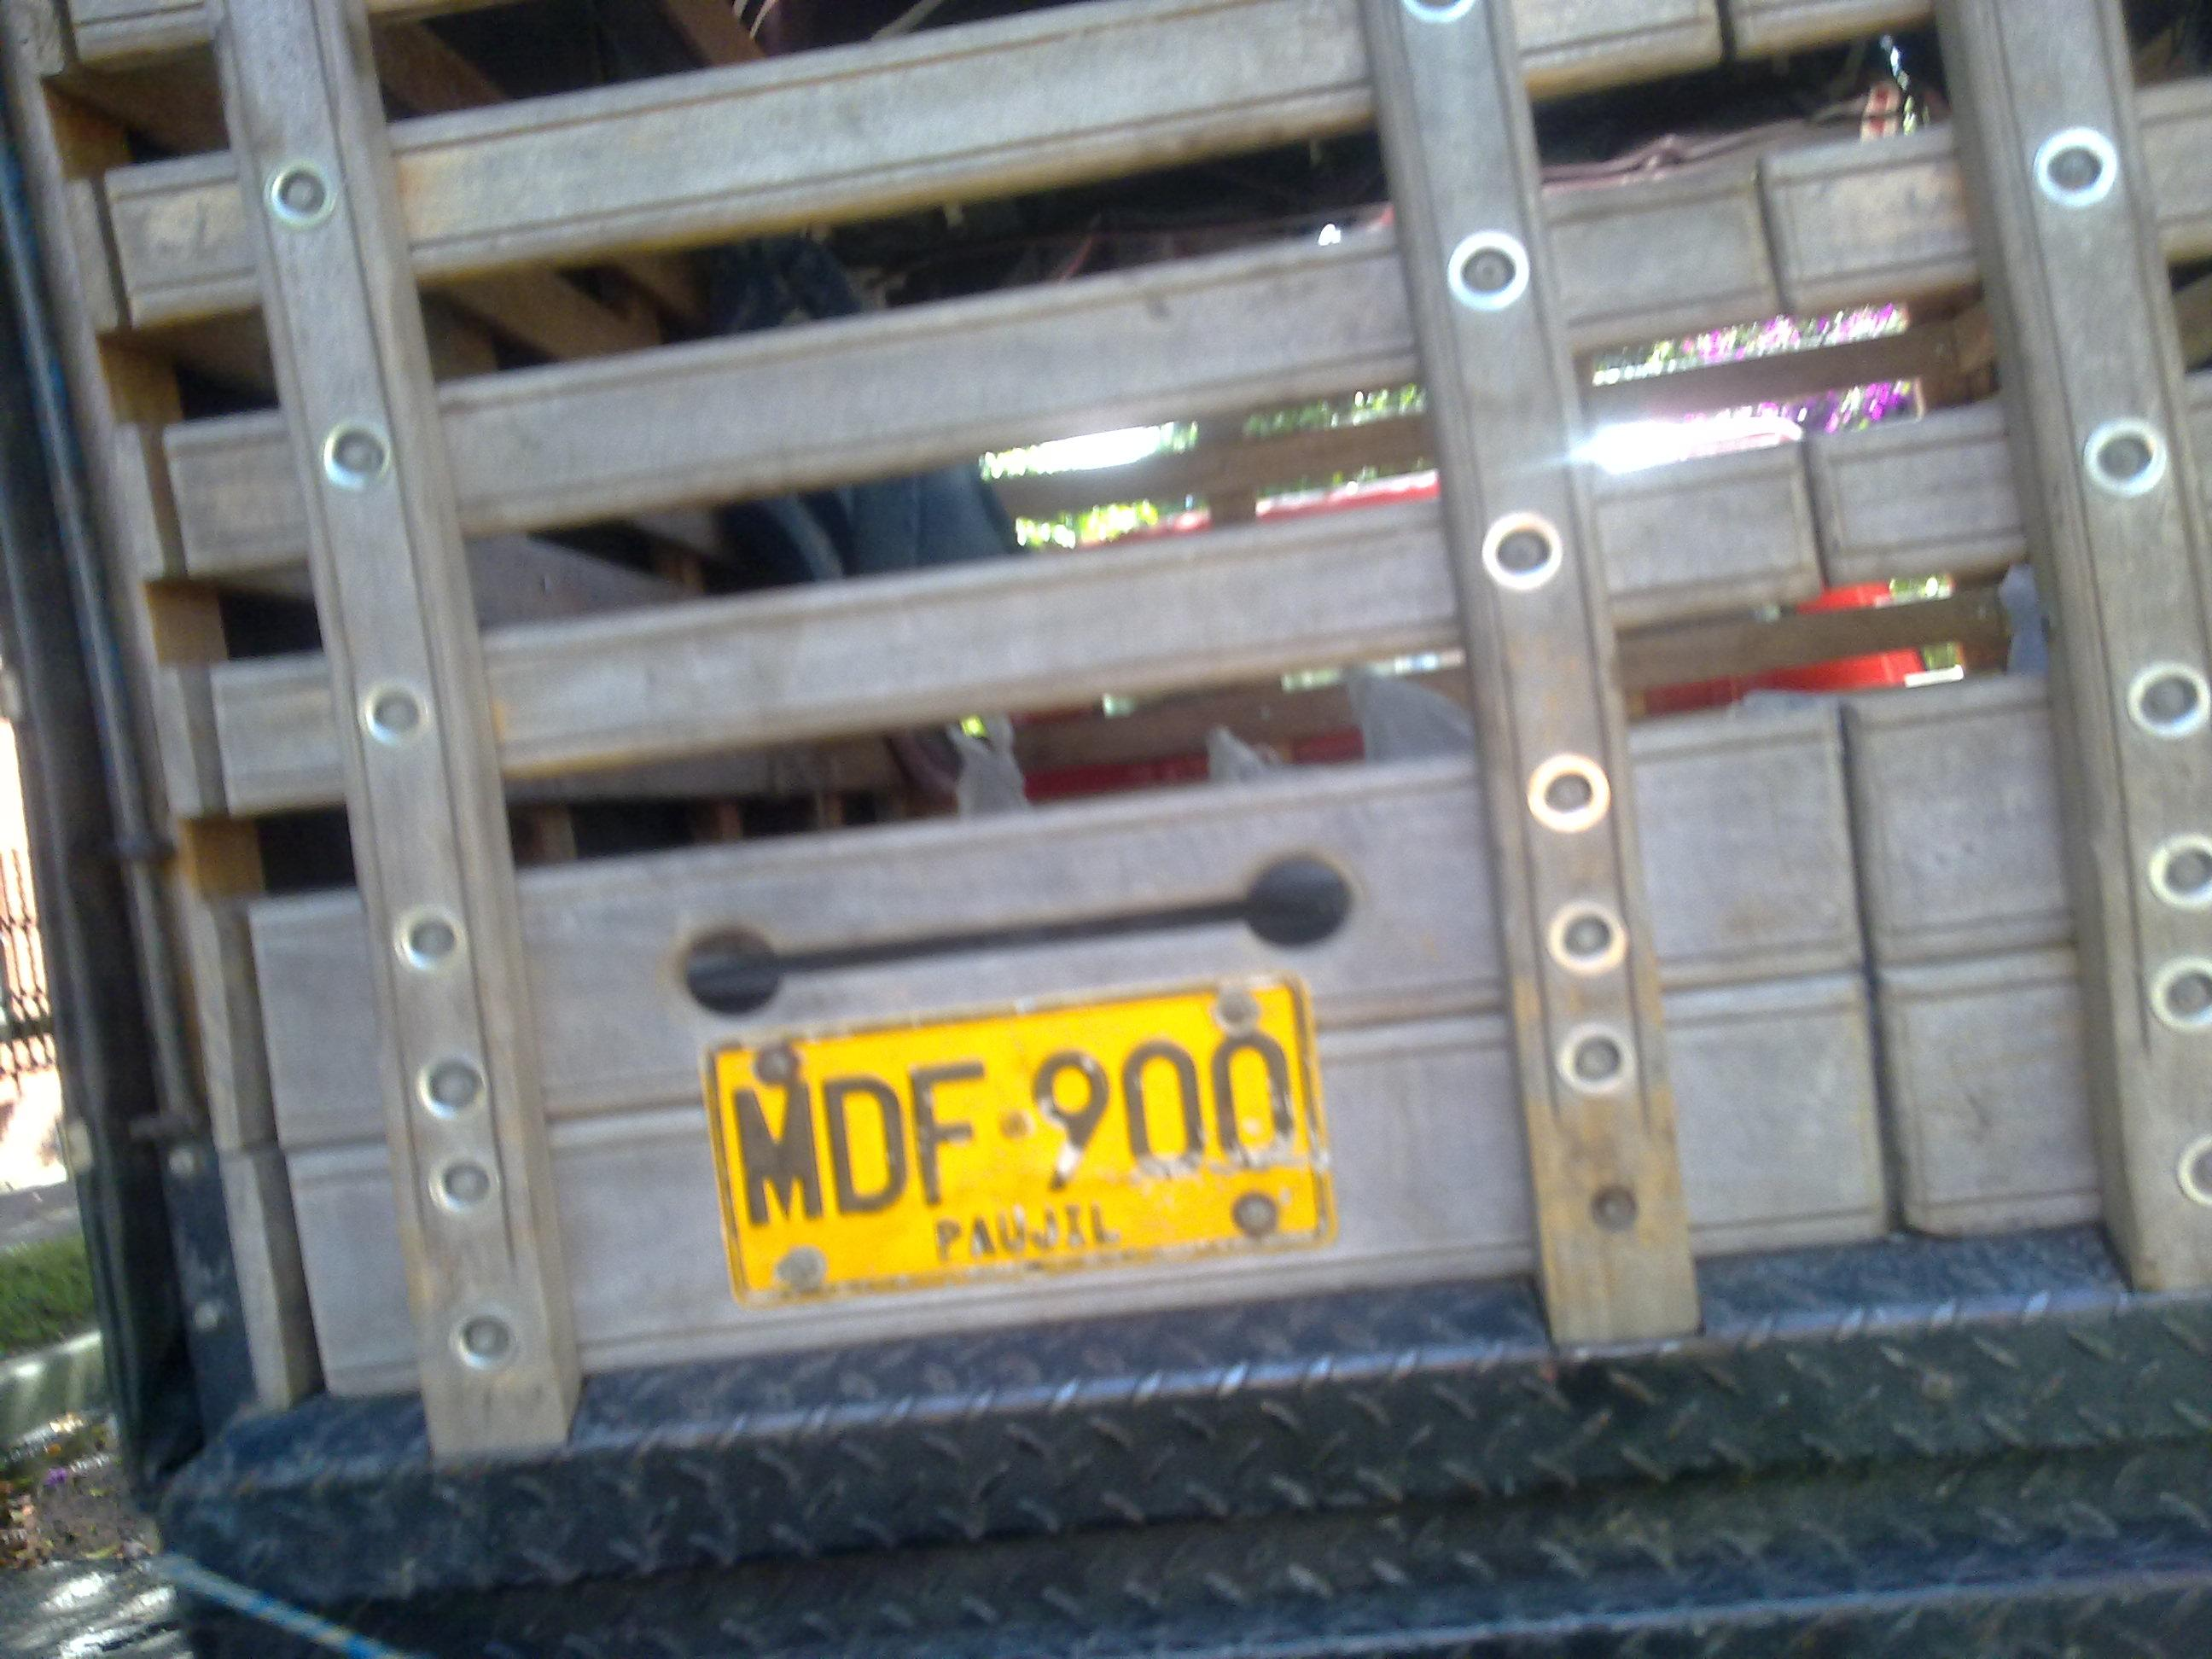placas: (696, 963, 1342, 1319)
